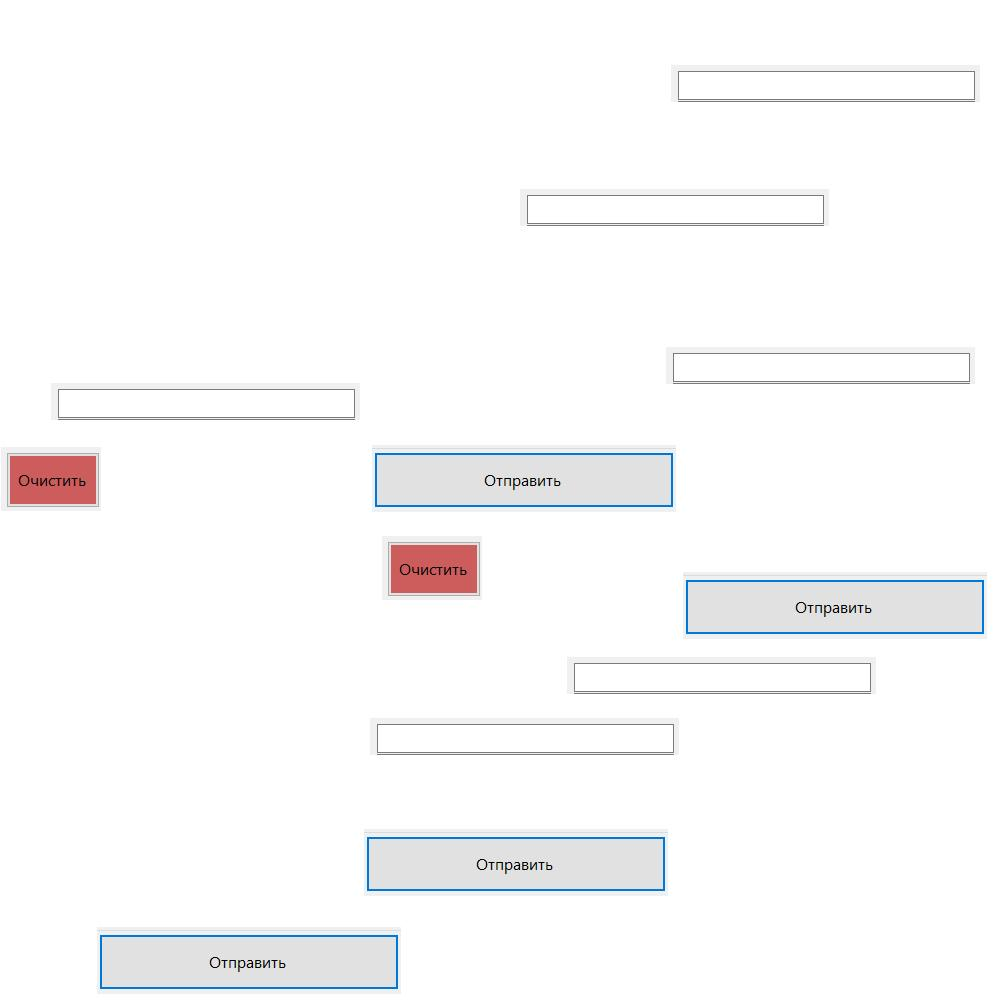Button: (364, 829, 668, 896), (683, 572, 987, 639), (97, 927, 401, 994), (372, 445, 676, 512), (1, 447, 101, 511), (382, 536, 482, 600)
EditText-: (671, 65, 980, 102), (567, 657, 876, 694), (370, 718, 679, 755), (666, 347, 975, 384), (520, 189, 829, 226), (51, 383, 360, 420)
